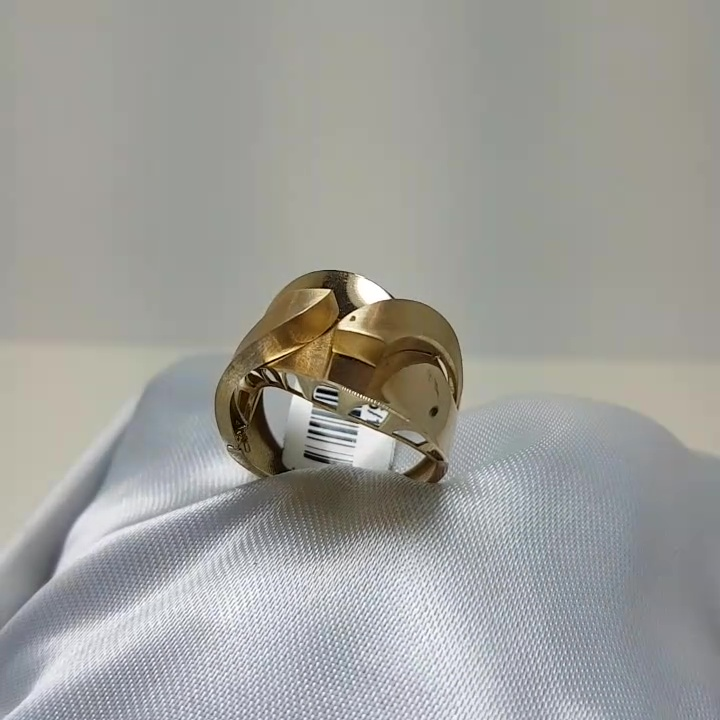Ring 4: (190, 264, 468, 517)
